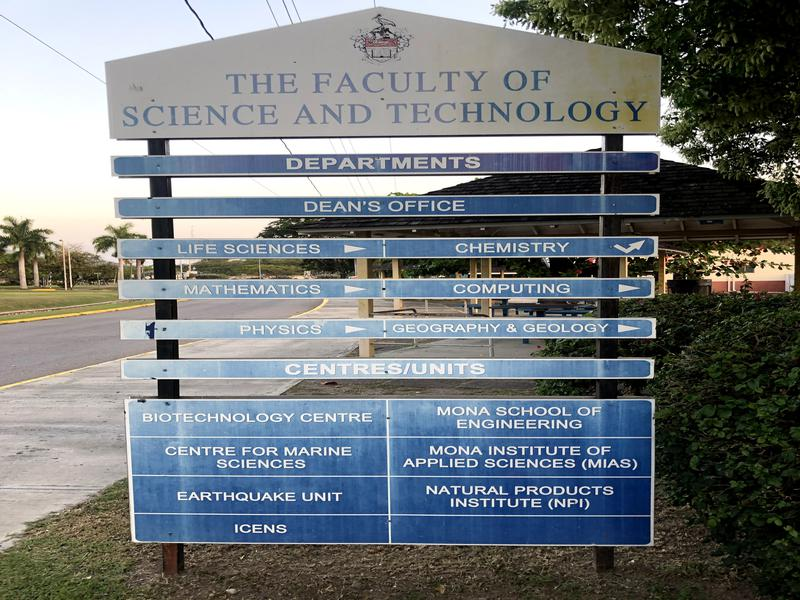18.0055634_-76.7484079_scitechsign: (94, 1, 680, 578)
